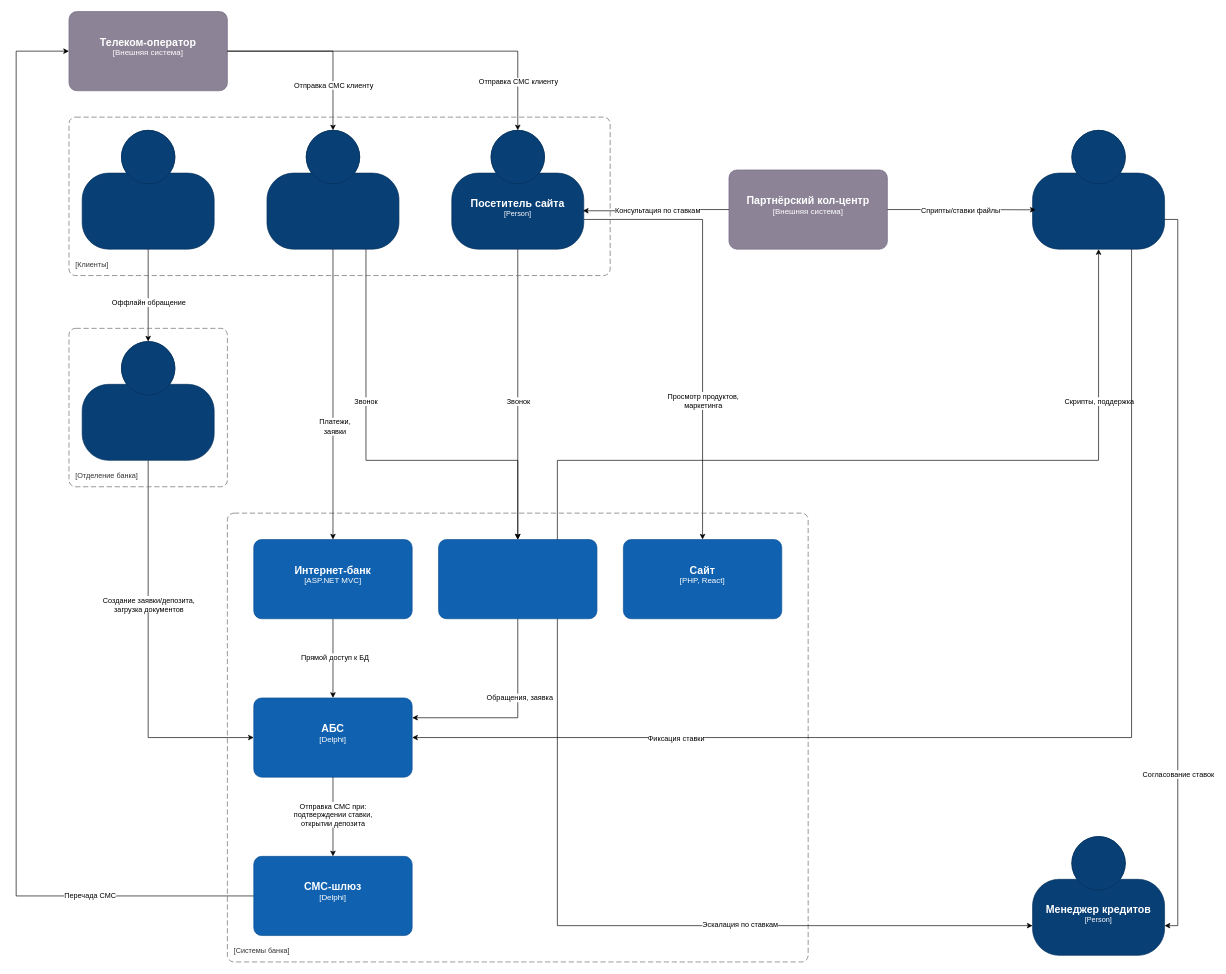
Image size: 1226x974. Some labels were removed from this diagram. Here are the shapes that lost their labels. From the top down, the centre of each, then its label:
At pixel 148 189: "Клиент в отделении [Person]".
At pixel 332 189: "Клиент интернет-банка [Person]".
At pixel 1098 189: "Менеджер депозитов [Person]".
At pixel 148 400: "Сотрудник отделения [Person]".
At pixel 517 579: "Система кол-центра [Java, React]".
